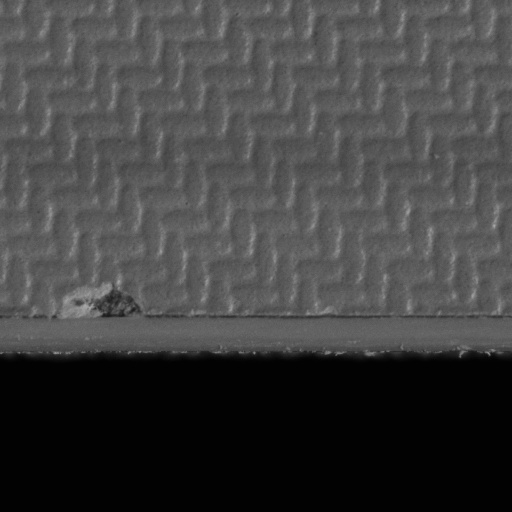bengque: (55, 280, 147, 321)
